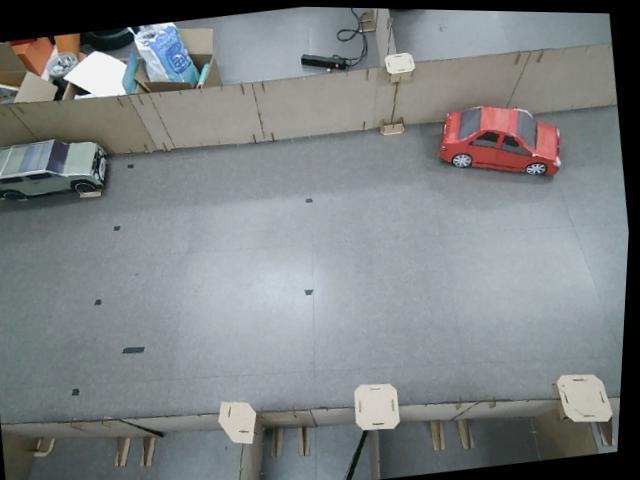car: (430, 93, 569, 192), (0, 130, 114, 207)
